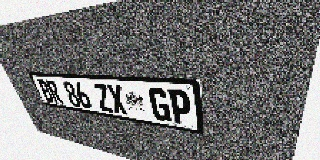6: (72, 82, 93, 109)
8: (62, 81, 82, 107)
B: (36, 79, 55, 103)
G: (148, 87, 172, 122)
P: (167, 89, 192, 126)
R: (45, 80, 64, 104)
X: (106, 84, 128, 115)
Z: (92, 83, 114, 113)
